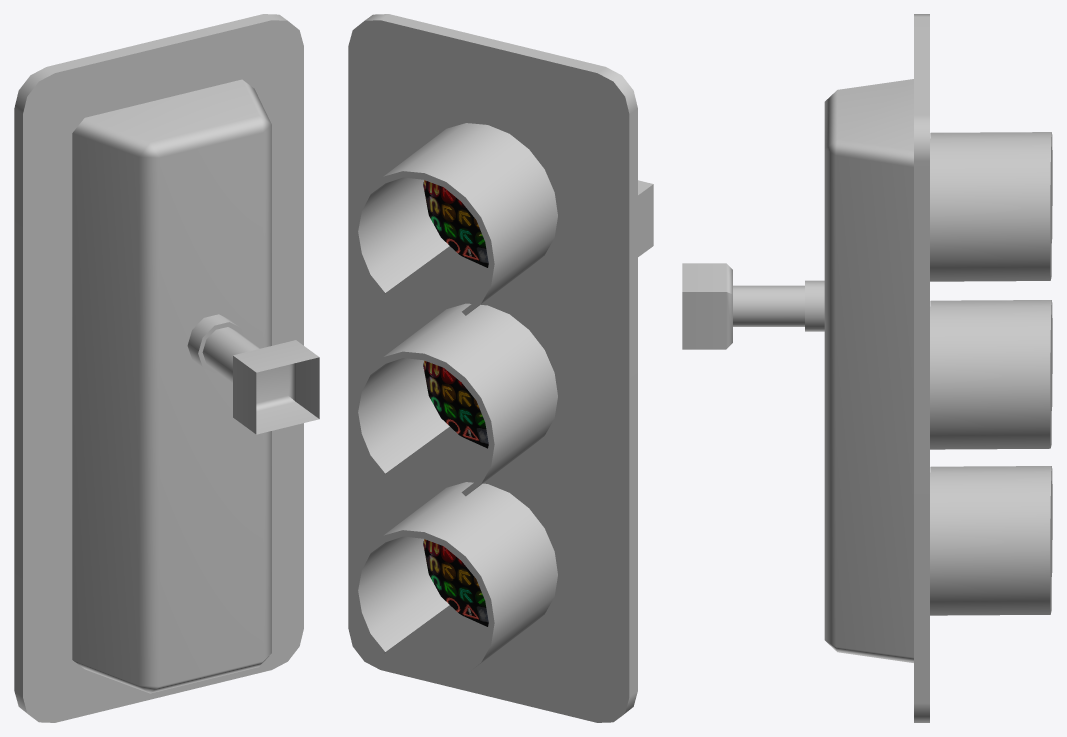
Rendered from Signal_3Light_Post01.fbx.
The picture shows the model from 3 angles, left to right: view 1: azimuth 30°, elevation 25°; view 2: azimuth 150°, elevation 25°; view 3: azimuth 270°, elevation 25°; orthographic projection. The views are drawn at different scales.
Visible parts, largest first — view 1: Signal_3Light_Post01_mesh; view 2: Signal_3Light_Post01_mesh, light_yellow, light_red, light_green; view 3: Signal_3Light_Post01_mesh.
Boxes of the visible parts, x1,y1,x2,y2 form: Signal_3Light_Post01_mesh: [14, 14, 319, 722]; Signal_3Light_Post01_mesh: [348, 14, 653, 722]; light_yellow: [423, 360, 488, 448]; light_red: [423, 180, 488, 267]; light_green: [423, 539, 488, 626]; Signal_3Light_Post01_mesh: [682, 14, 1052, 722].
Size of the model in its own units: 52.49 by 64.38 by 116.
